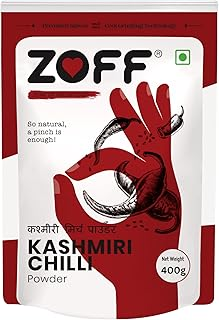Chilli Powder: (2, 3, 219, 320)
